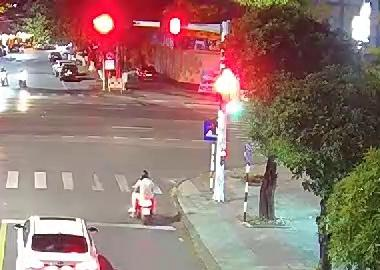red_light: (213, 63, 239, 117), (158, 14, 181, 37), (93, 15, 114, 35)
stop_line: (2, 215, 179, 232)
